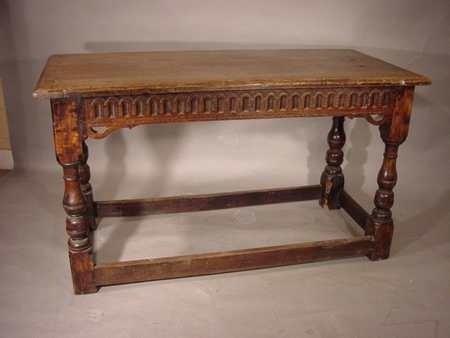obstacle: (34, 49, 430, 293)
